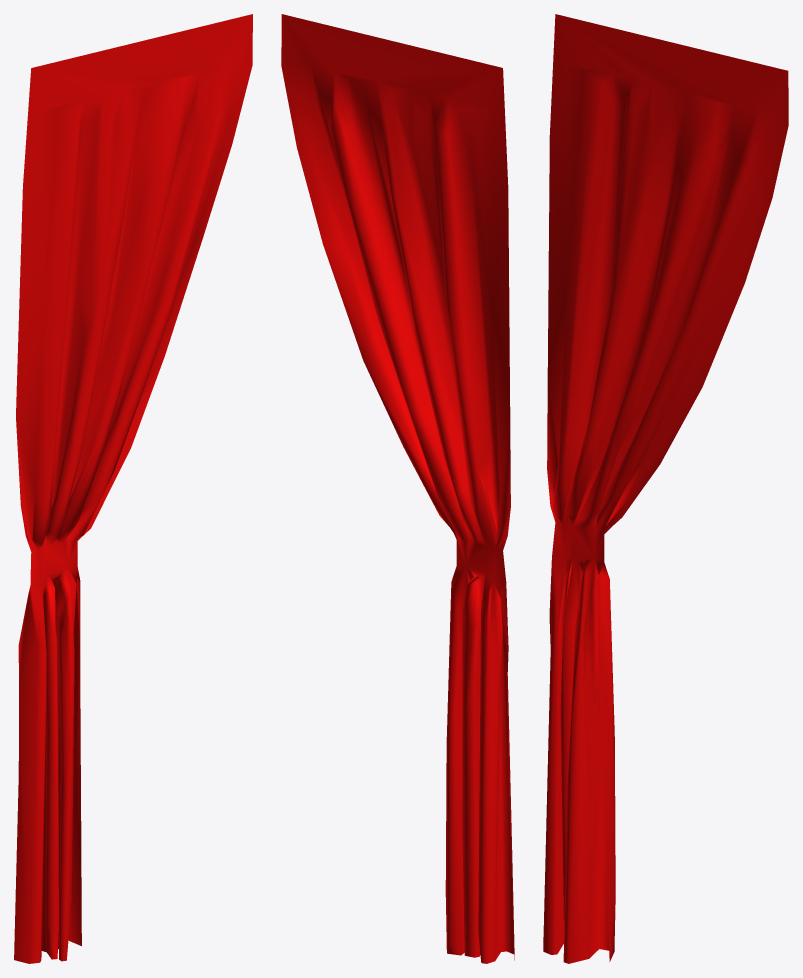
The model's file is SM_ClosedCurtain.FBX.
3 renders of one model, left to right at view 1: azimuth 30°, elevation 25°; view 2: azimuth 150°, elevation 25°; view 3: azimuth 330°, elevation 25°, orthographic. The views are drawn at different scales.
Visible parts, largest first — view 1: SM_ClosedCurtain; view 2: SM_ClosedCurtain; view 3: SM_ClosedCurtain.
Part boxes in pixels (x1,y1,x2,y2): SM_ClosedCurtain: (14, 14, 252, 963); SM_ClosedCurtain: (281, 14, 514, 963); SM_ClosedCurtain: (543, 14, 788, 963).
Bounding box in the file's own units: 137 × 493 × 24.72.
